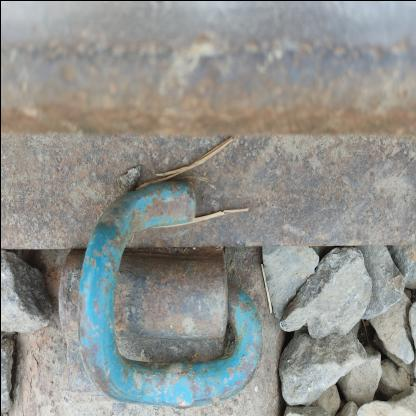Non Defective 1: (27, 128, 283, 415)
